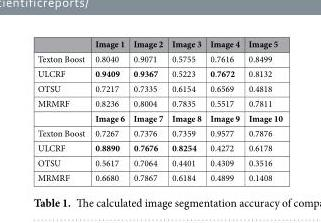table: (36, 37, 281, 183)
table column: (36, 37, 89, 183), (89, 37, 128, 183), (166, 37, 205, 183), (128, 37, 166, 183), (205, 37, 243, 183), (243, 37, 281, 183)
table column header: (36, 37, 281, 50)
table row: (36, 50, 281, 65), (36, 65, 281, 80), (36, 80, 281, 95), (36, 95, 281, 110), (36, 110, 281, 125), (36, 139, 281, 154), (36, 154, 281, 169), (36, 125, 281, 139), (36, 169, 281, 183), (36, 37, 281, 50)
table spanning cell: (36, 95, 89, 125)
